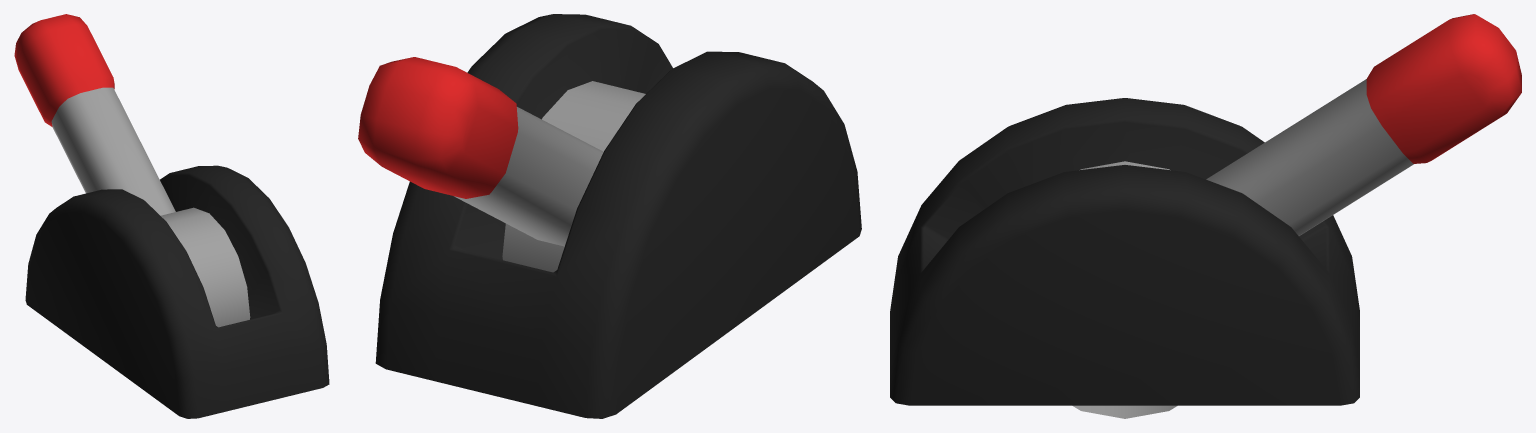
The model's file is lever_small.glb.
3 renders of one model, left to right at view 1: azimuth 30°, elevation 25°; view 2: azimuth 150°, elevation 25°; view 3: azimuth 270°, elevation 25°, orthographic. The views are drawn at different scales.
Parts seen in each view (by area): view 1: Cylinder, Cube.002; view 2: Cylinder, Cube.002; view 3: Cylinder, Cube.002.
Part boxes in pixels (x1,y1,x2,y2): Cylinder: (25,165,329,418); Cube.002: (14,14,250,327); Cylinder: (375,14,861,418); Cube.002: (358,57,645,272); Cylinder: (890,98,1359,405); Cube.002: (1072,14,1521,418).
Bounding box in the file's own units: 0.0295 × 0.0494 × 0.0768.
